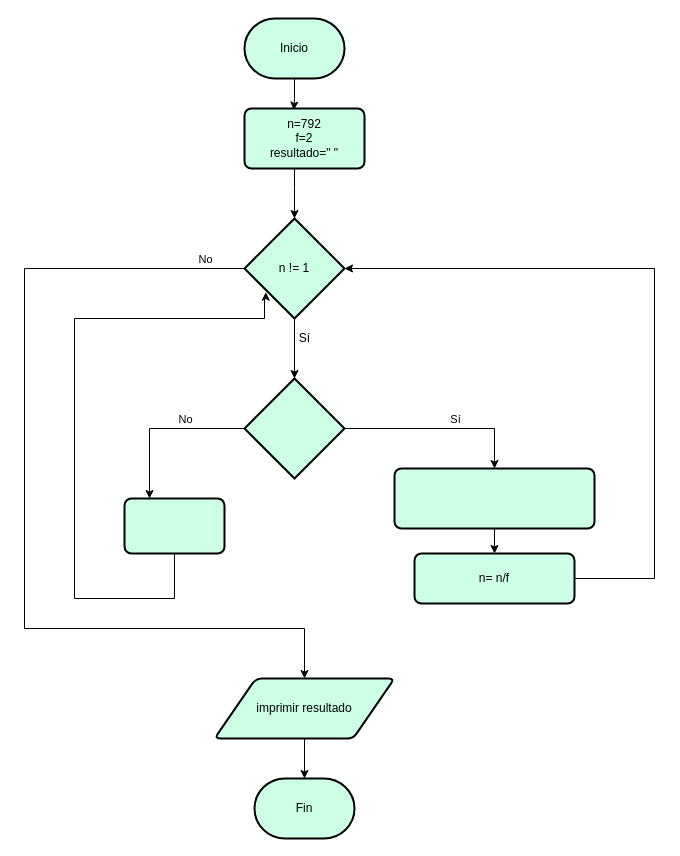
Some shapes in this 680 by 856 pixel diagram are drawn without their labels. Here are the shapes that lost their labels. From the top down, the centre of each, then its label:
point (294, 428): n mod f ==0
point (494, 498): c = c +" "+ ConvertirATexto(f)
point (174, 525): n = n+1
